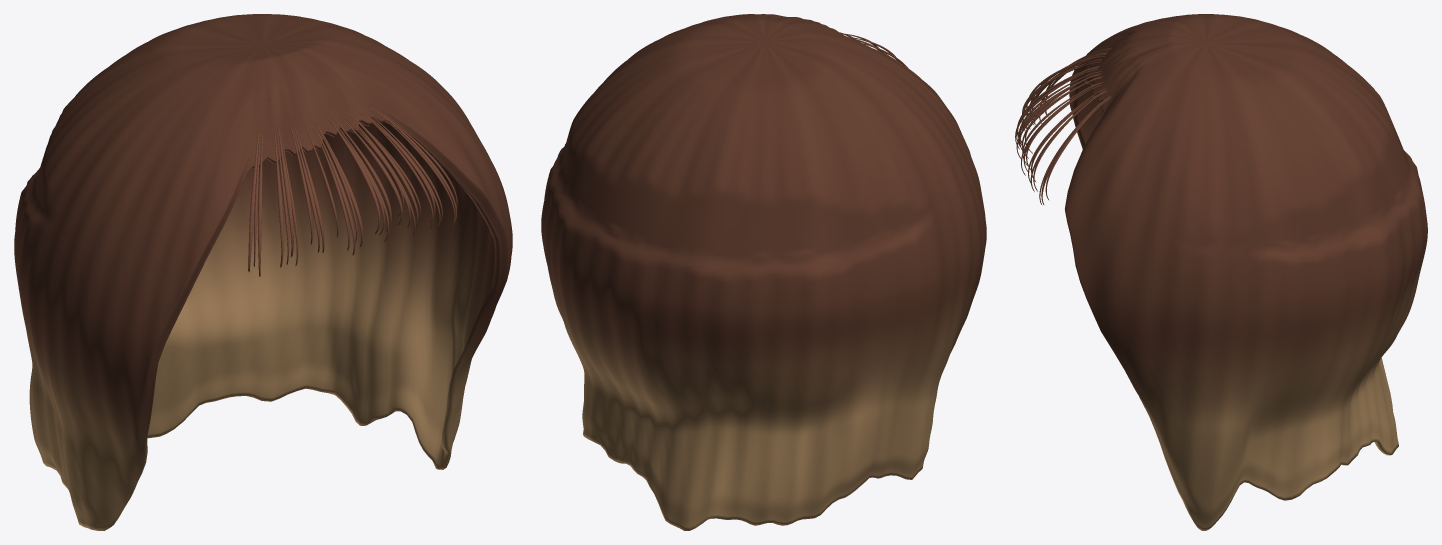
The model's file is side-sweep-bucket-ombre.glb.
3 views of the same model, side by side, from view 1: azimuth 30°, elevation 25°; view 2: azimuth 150°, elevation 25°; view 3: azimuth 270°, elevation 25° (orthographic). The views are drawn at different scales.
Parts seen in each view (by area): view 1: Hair / layered lob, Fringe / fine strands; view 2: Hair / layered lob; view 3: Hair / layered lob, Fringe / fine strands.
Part boxes in pixels (<box>): Hair / layered lob: <box>14,14,512,530</box>; Fringe / fine strands: <box>248,107,457,276</box>; Hair / layered lob: <box>541,14,986,530</box>; Hair / layered lob: <box>1065,14,1427,530</box>; Fringe / fine strands: <box>1015,48,1111,204</box>.
Bounding box in the file's own units: 0.8388 × 0.8732 × 0.782.
